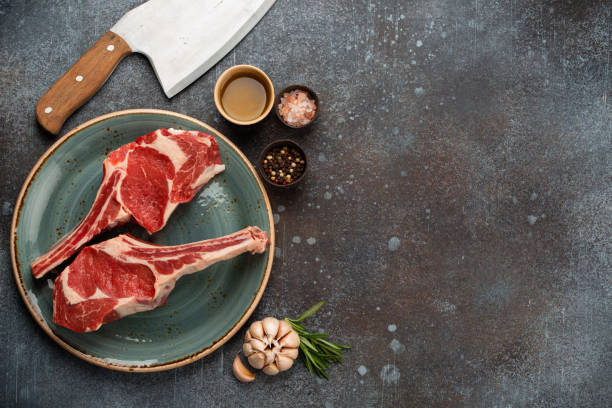knife: (34, 0, 278, 137)
